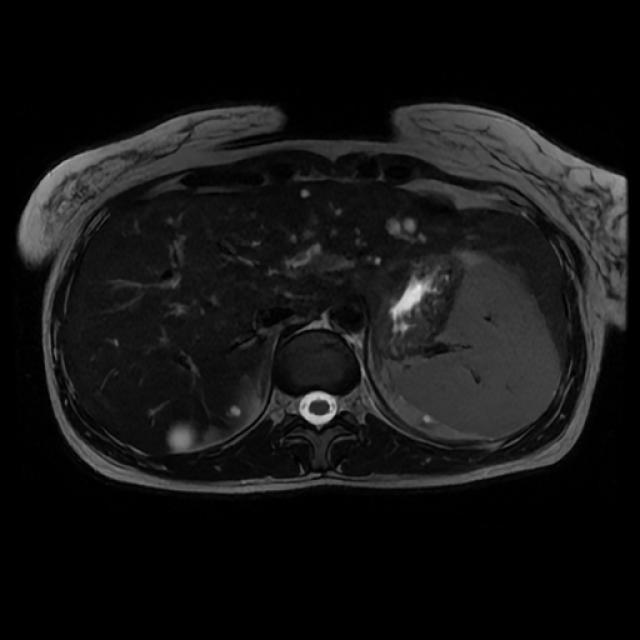sag: (167, 377, 254, 451)
